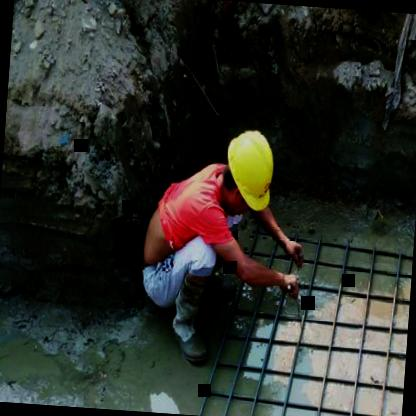helmet: (218, 124, 280, 214)
